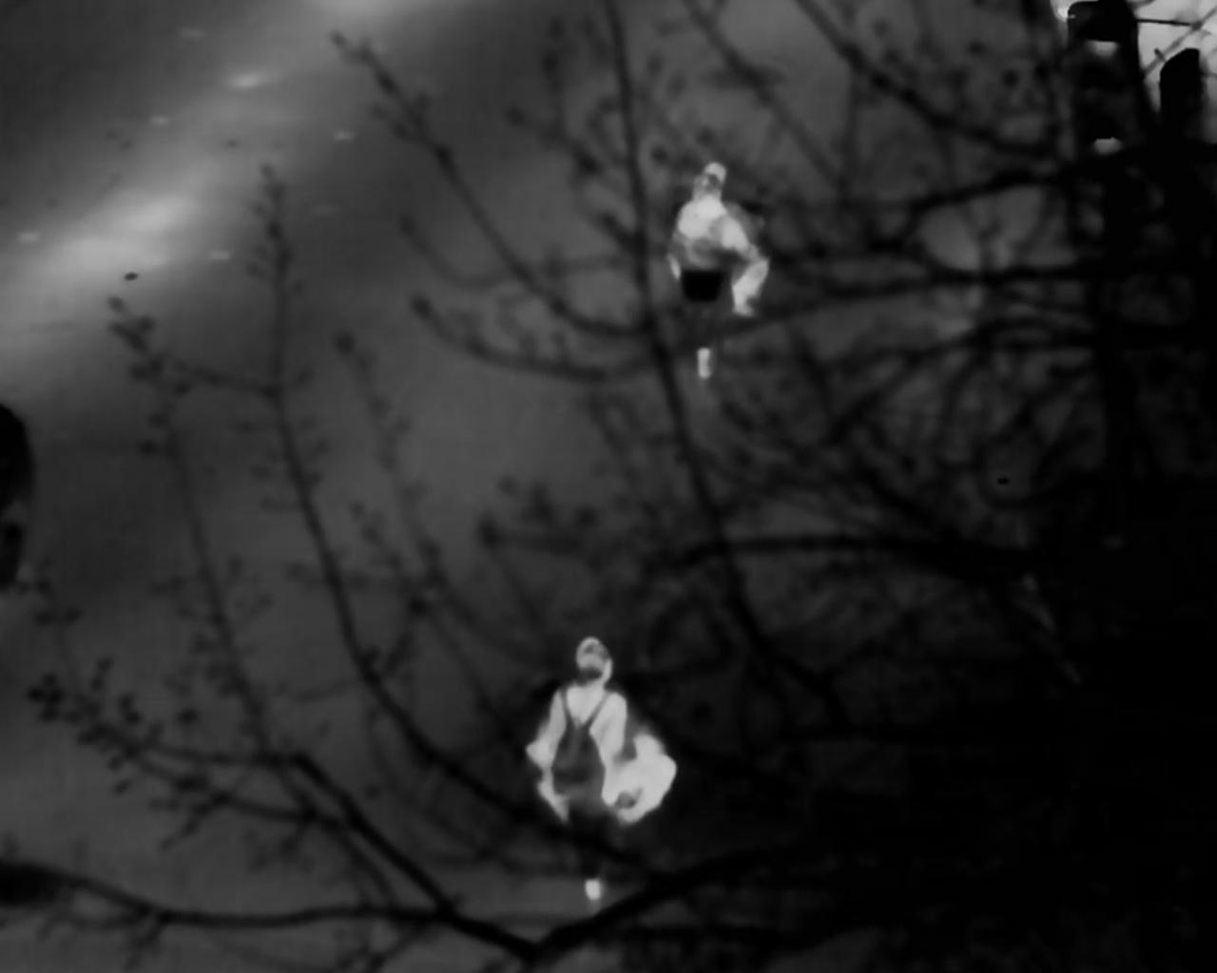person: (536, 623, 653, 815), (668, 154, 765, 355)
